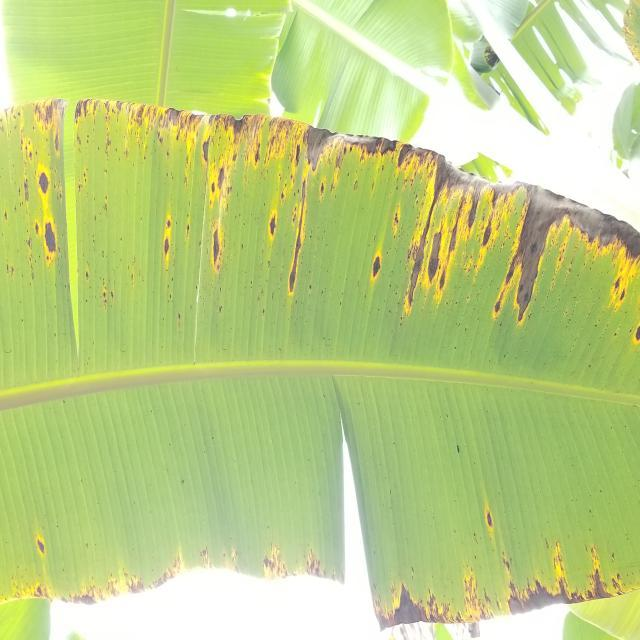Early_rust: (0, 64, 640, 627)
